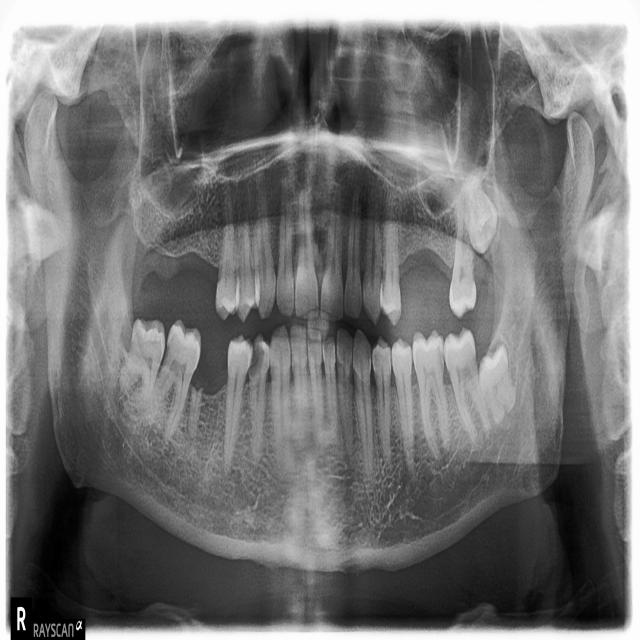mandibula: (21, 87, 594, 573)
